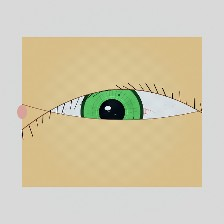pterygium_lesion: (23, 94, 67, 130)
